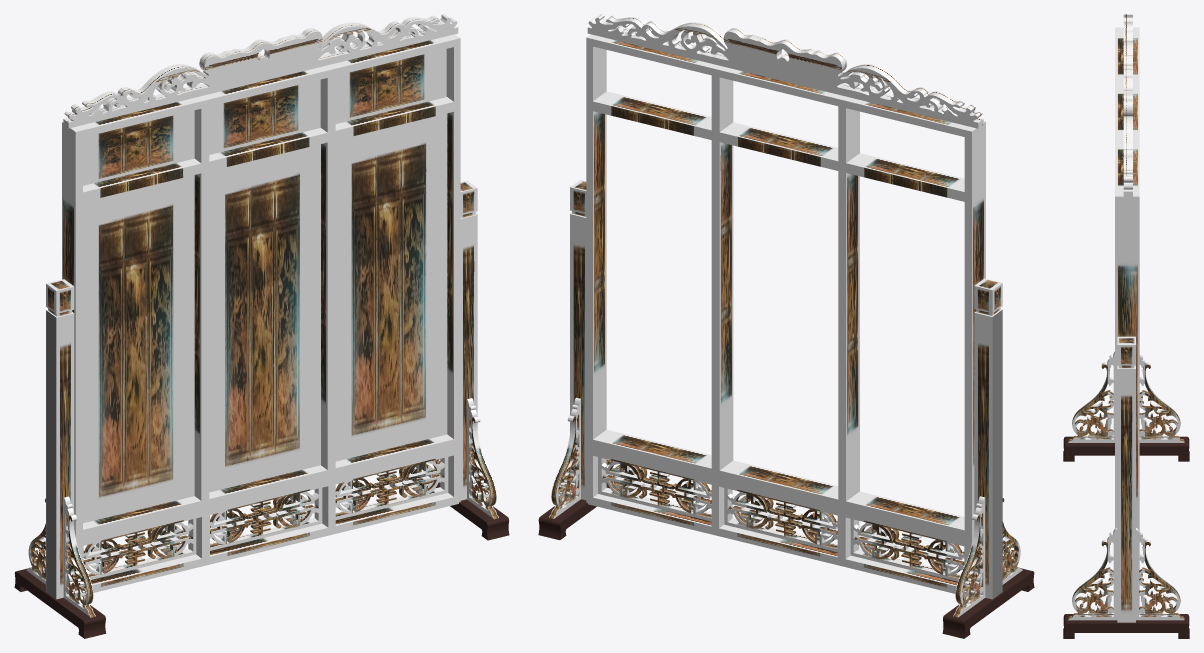
The model's file is Screen.glb.
The picture shows the model from 3 angles, left to right: view 1: azimuth 30°, elevation 25°; view 2: azimuth 150°, elevation 25°; view 3: azimuth 270°, elevation 25°; orthographic projection. The views are drawn at different scales.
Visible parts, largest first — view 1: Plane03, Plane01, Plane02, Shape03, Shape02, Shape1, Shape08, Plane04, Plane06, Plane05, Box05, Box01 (+14 smaller); view 2: Shape03, Shape1, Shape02, Shape08, Box05, Shape10, Shape11, Shape09, Box01, Shape04, Plane08, Shape06 (+7 smaller); view 3: Shape02, Box01, Shape12, Shape07, Shape13, Shape08, Shape14, Line02, Shape03, Line01, Shape1, Line04 (+2 smaller).
Part boxes in pixels (x1,y1,x2,y2): Plane03: (335,113,447,461); Plane01: (83,175,194,523); Plane02: (209,144,320,492); Shape03: (62,96,207,540); Shape02: (328,34,460,478); Shape1: (197,65,334,509); Shape08: (63,14,458,128); Plane04: (83,110,194,185); Plane06: (335,49,446,123); Plane05: (209,79,320,154); Box05: (46,310,74,599); Box01: (460,214,477,500); Shape03: (839,97,985,542); Shape1: (713,65,849,511); Shape02: (586,34,721,480); Shape08: (587,14,983,128); Box05: (974,309,1002,599); Shape10: (724,488,837,552); Shape11: (598,457,711,521); Shape09: (850,519,964,581); Box01: (570,213,586,500); Shape04: (586,449,718,535); Plane08: (992,310,1002,598); Shape06: (839,511,972,594); Shape02: (1115,141,1139,564); Box01: (1117,365,1135,622); Shape12: (1068,528,1117,620); Shape07: (1136,528,1184,620); Shape13: (1068,351,1114,442); Shape08: (1123,14,1132,196); Shape14: (1139,355,1184,442); Line02: (1063,614,1128,638); Shape03: (1115,27,1139,85); Line01: (1124,614,1189,638); Shape1: (1115,85,1139,140); Line04: (1063,436,1114,461).
Size of the model in its own units: 28.17 by 32.9 by 8.06.
Materials: 8 (6 with a texture image).
